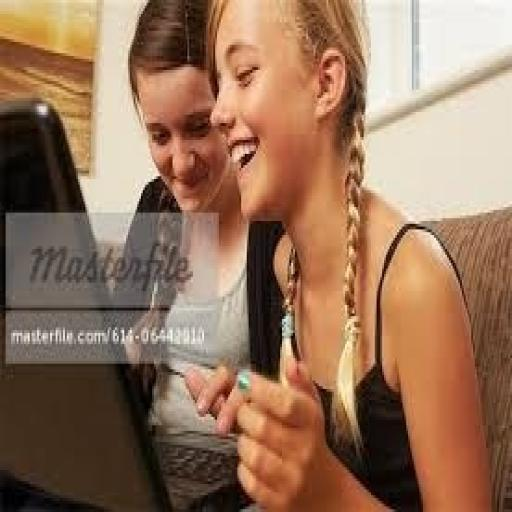using_laptop: (0, 92, 258, 510)
